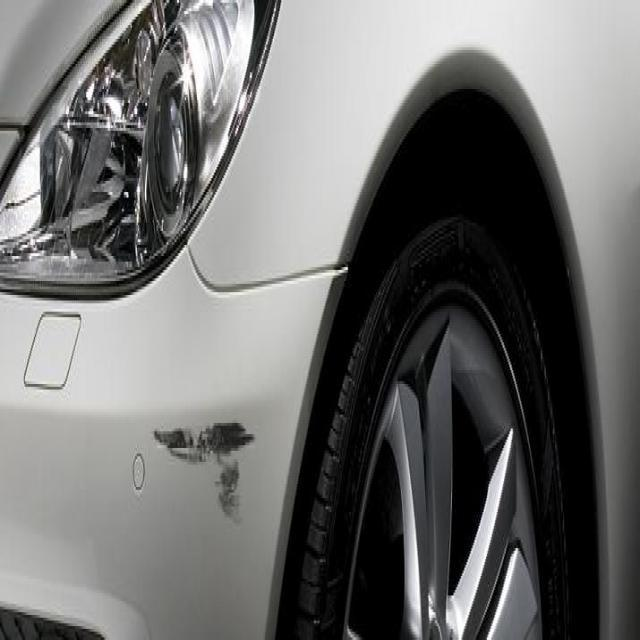scratch: (153, 405, 269, 547)
